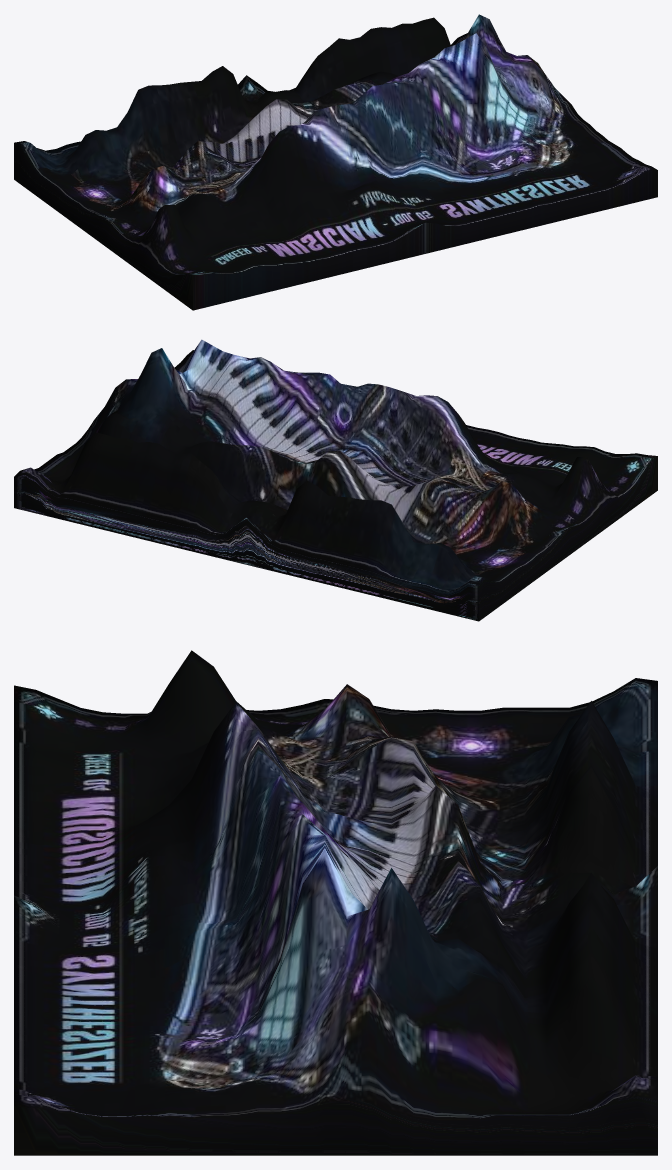
Rendered from CAREER_04_Tool_05_Synth.glb.
3 renders of one model, top to bottom at view 1: azimuth 30°, elevation 25°; view 2: azimuth 150°, elevation 25°; view 3: azimuth 270°, elevation 25°, orthographic. The views are drawn at different scales.
Visible parts, largest first — view 1: CAREER_04_Tool_05_Synth; view 2: CAREER_04_Tool_05_Synth; view 3: CAREER_04_Tool_05_Synth.
Part boxes in pixels (bbox=[...]): CAREER_04_Tool_05_Synth: bbox=[14, 14, 657, 310]; CAREER_04_Tool_05_Synth: bbox=[14, 339, 657, 621]; CAREER_04_Tool_05_Synth: bbox=[14, 650, 657, 1155].
Bounding box in the file's own units: 2 × 0.51 × 1.33.
Materials: 1 (1 with a texture image).
